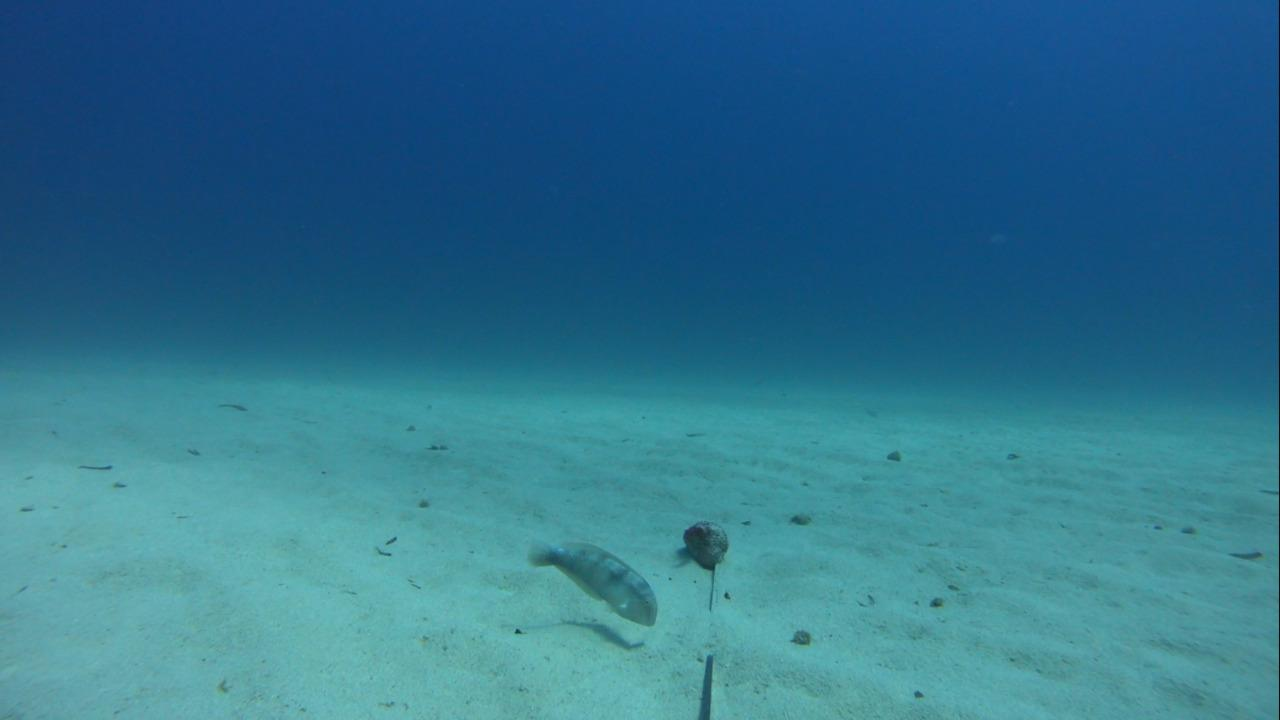raor: (523, 537, 663, 633)
